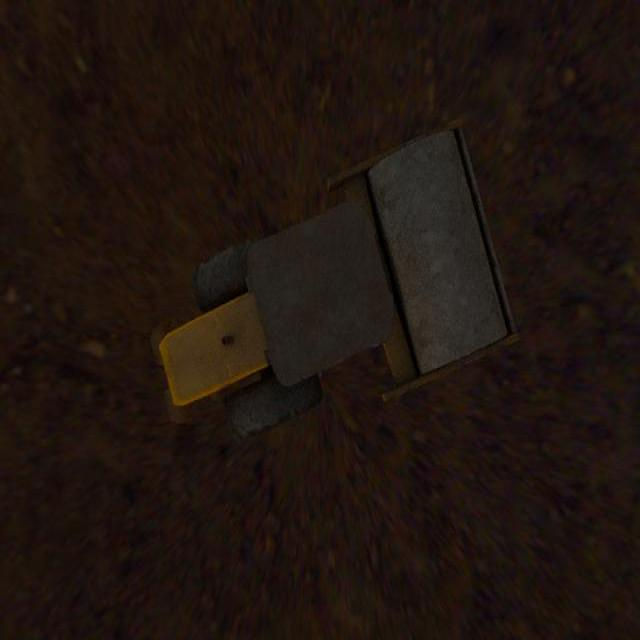Roller: (149, 118, 519, 442)
